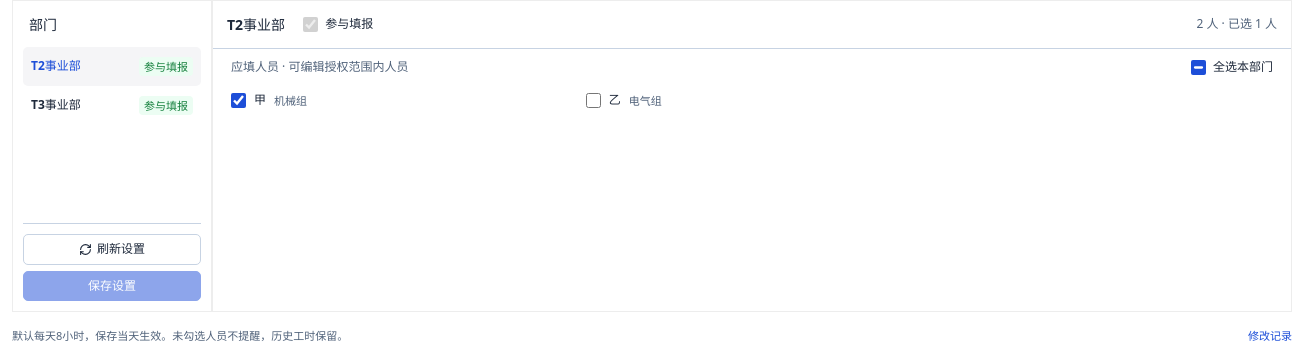
Test: 按部门分组的统一设置 › 失败保留各部门勾选，不能误报保存成功
The width and height of the screenshot is (1304, 358).
Click the checkbox named "T2事业部乙需要填报" at (593, 101), box [586, 93, 601, 108]
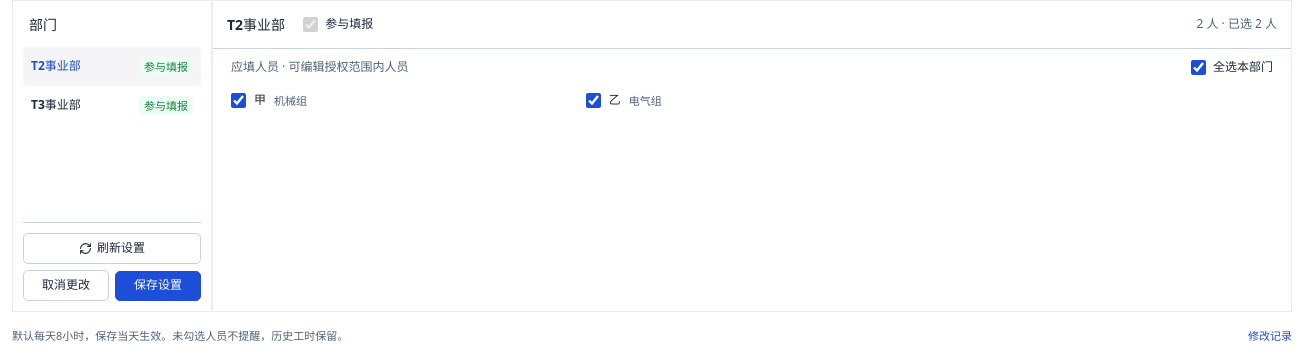
Click the button "保存设置" at (158, 286), box [115, 271, 201, 301]
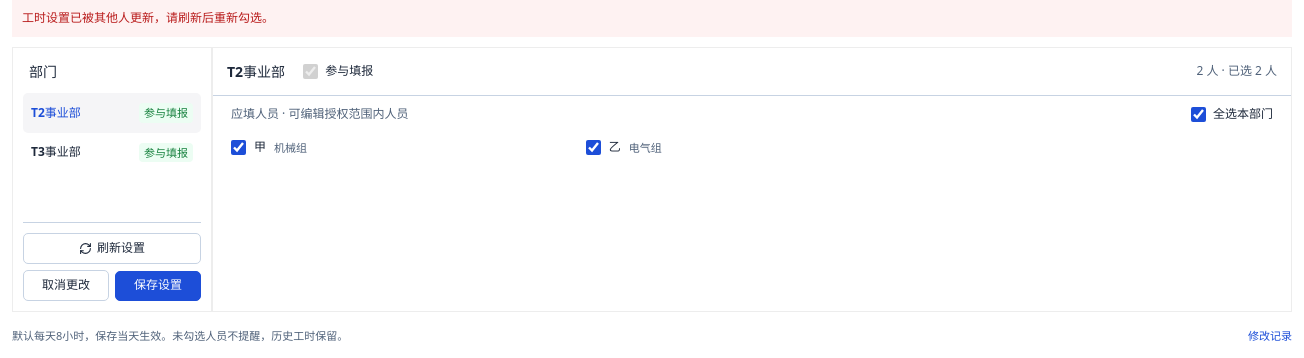
Check: the checkbox named "T2事业部乙需要填报" is checked, box [586, 140, 601, 155]
Check: the message "工时设置已被其他人更新，请刷新后重新勾选。" is shown, box [12, 0, 1292, 37]
